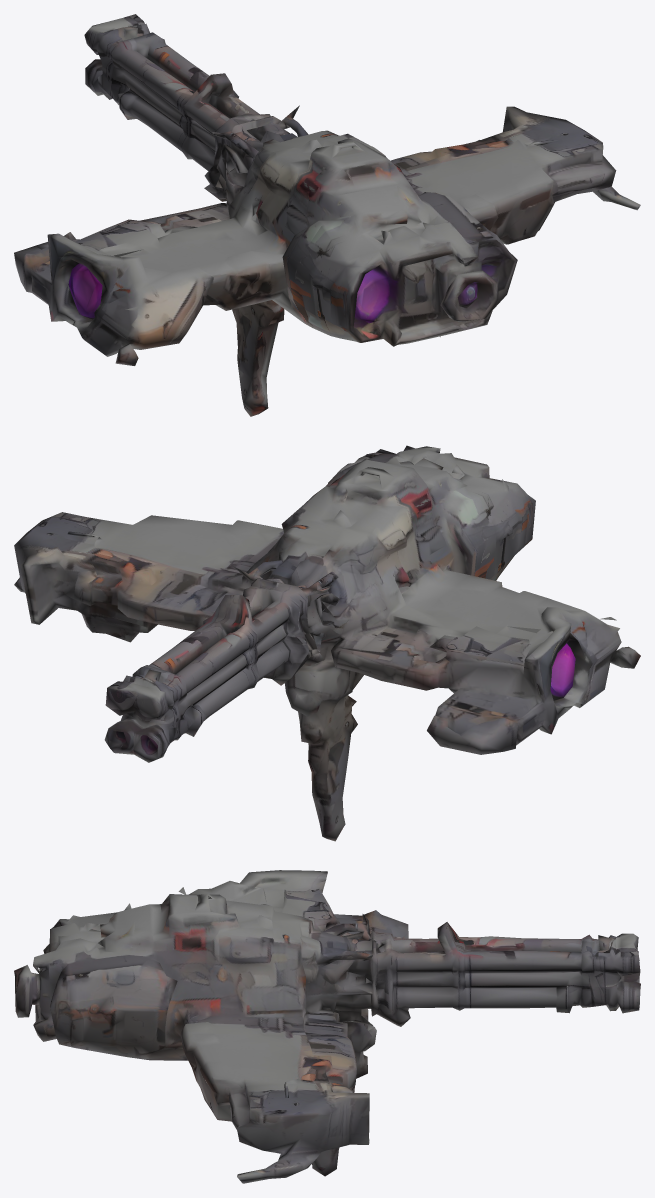
The model's file is Enemy_SniperArtillery_A.obj.
The picture shows the model from 3 angles, top to bottom: view 1: azimuth 30°, elevation 25°; view 2: azimuth 150°, elevation 25°; view 3: azimuth 270°, elevation 25°; orthographic projection. The views are drawn at different scales.
Parts seen in each view (by area): view 1: tripo_node_6b00c2ae-9dc5-415f-9737-aa2856cb1c4a; view 2: tripo_node_6b00c2ae-9dc5-415f-9737-aa2856cb1c4a; view 3: tripo_node_6b00c2ae-9dc5-415f-9737-aa2856cb1c4a.
Boxes of the visible parts, left/top/right/bottom form: tripo_node_6b00c2ae-9dc5-415f-9737-aa2856cb1c4a: left=14, top=14, right=640, bottom=416; tripo_node_6b00c2ae-9dc5-415f-9737-aa2856cb1c4a: left=14, top=445, right=640, bottom=841; tripo_node_6b00c2ae-9dc5-415f-9737-aa2856cb1c4a: left=14, top=870, right=640, bottom=1183.
Bounding box in the file's own units: 0.9478 × 0.5085 × 1.
Materials: 1 (1 with a texture image).
